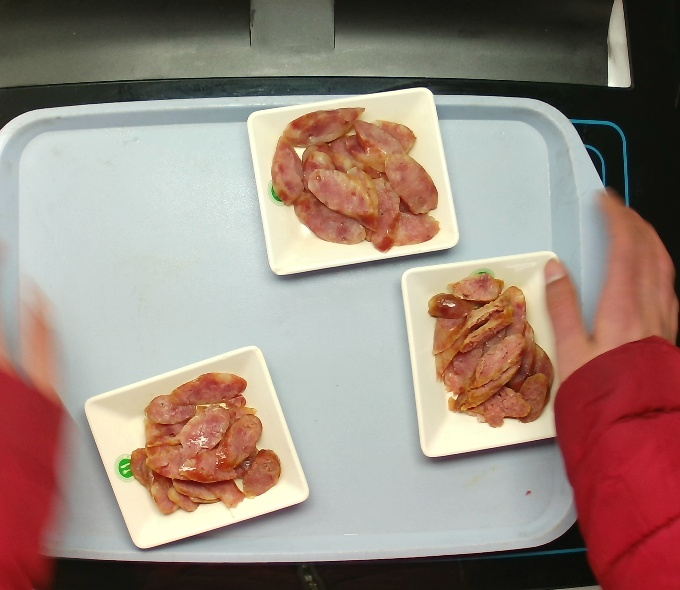wcq-QiePianXiangChang: (267, 102, 442, 246), (120, 373, 286, 522), (419, 272, 554, 429)
